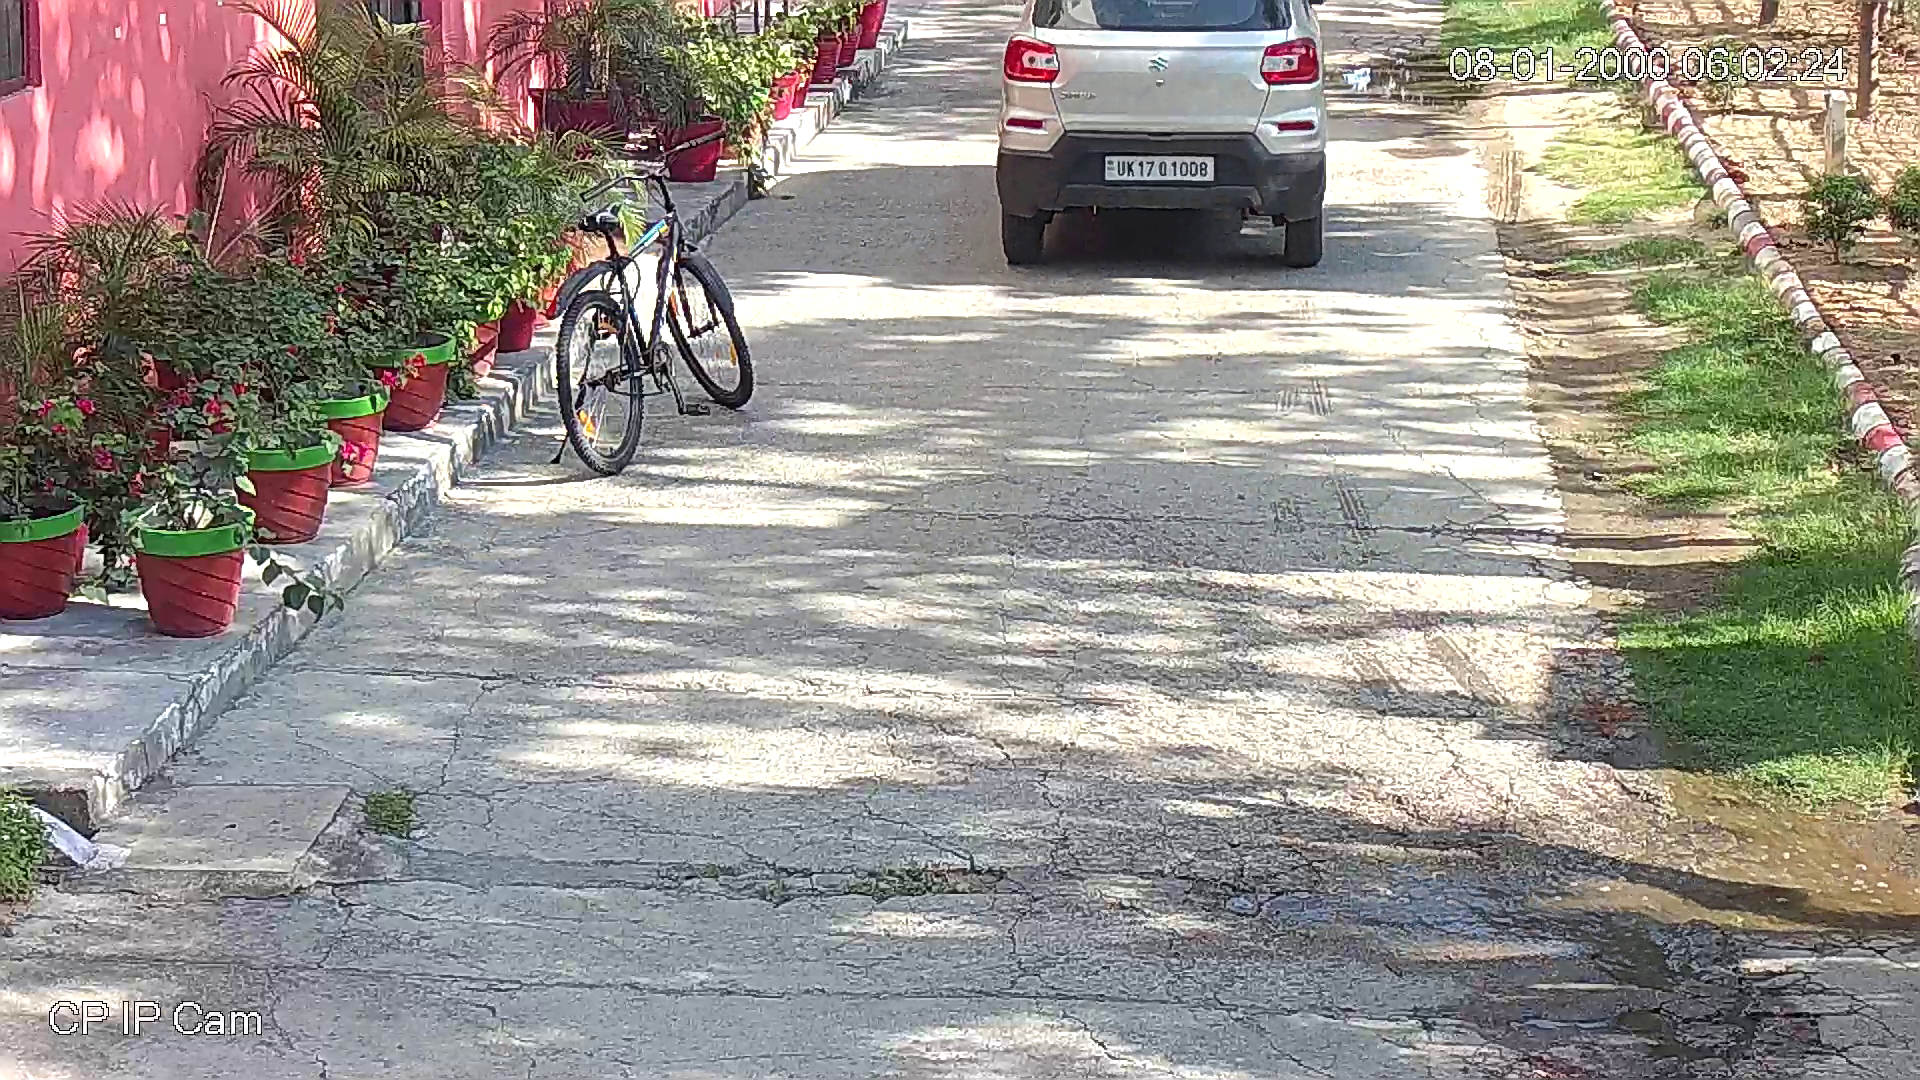plate: (1096, 150, 1217, 185)
